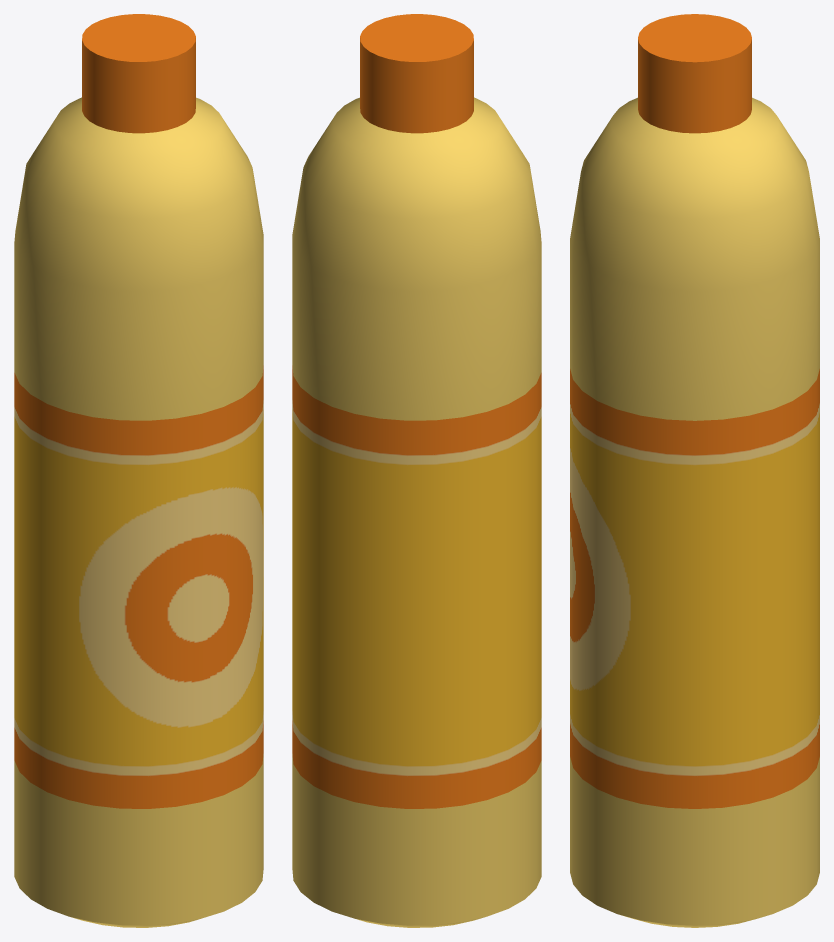
Rendered from Sunflower_Oil.fbx.
3 views of the same model, side by side, from view 1: azimuth 30°, elevation 25°; view 2: azimuth 150°, elevation 25°; view 3: azimuth 270°, elevation 25° (orthographic).
Parts seen in each view (by area): view 1: Sunflower_Oil; view 2: Sunflower_Oil; view 3: Sunflower_Oil.
Boxes of the visible parts, x1,y1,x2,y2 form: Sunflower_Oil: (14, 14, 263, 927); Sunflower_Oil: (292, 14, 541, 927); Sunflower_Oil: (570, 14, 819, 927).
Bounding box in the file's own units: 0.07 × 0.262 × 0.07.
Materials: 3 (1 with a texture image).
